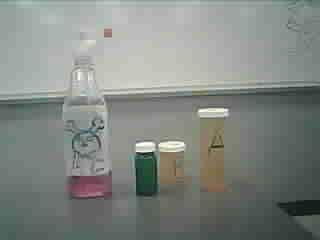Bottle A: (195, 109, 232, 192)
Bottle B: (160, 140, 190, 186)
Bottle C: (131, 139, 159, 196)
hazard: (63, 26, 121, 199)
